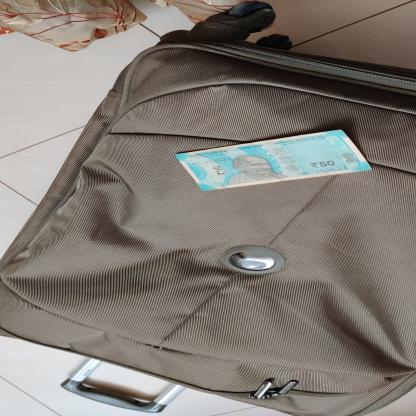New50Front: (171, 128, 376, 193)
